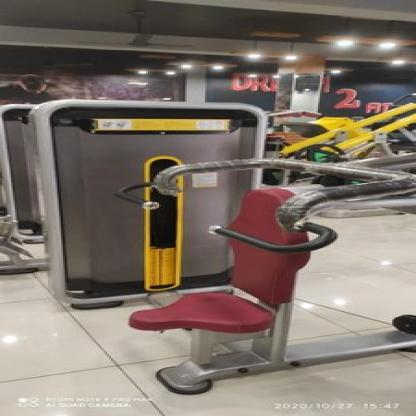shoulder press machine: (17, 91, 416, 407)
